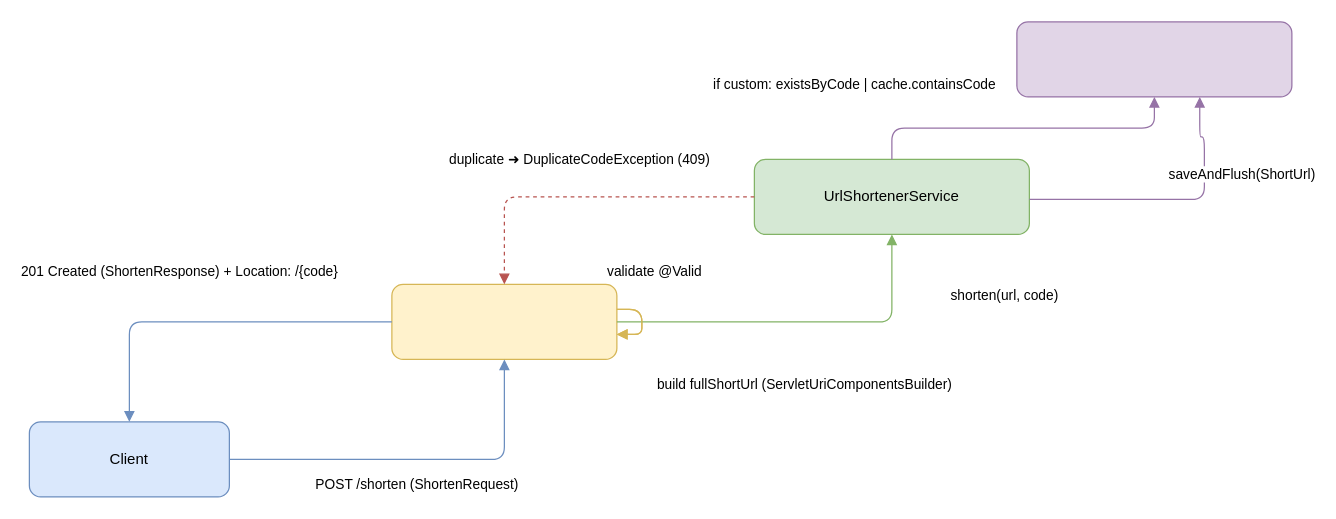
This 1336x519 diagram has some shape labels left out. The shapes that lost their labels are listed below. From the top down, each one's box as (x1, y1, x2, y2) in pixels, then its label:
(1016, 21, 1292, 97): ShortUrlRepository
(391, 283, 617, 359): LinkController
